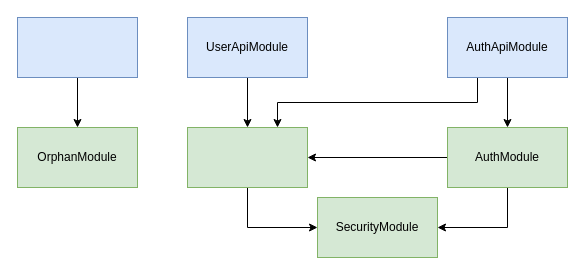
The diagram is 585 pixels wide and 275 high, and some of its shapes have lost their labels. The shapes that lost their labels are listed below. From the top down, each one's box as (x1, y1, x2, y2) in pixels, then its label:
(16, 16, 138, 78): OrphanApiModule
(186, 126, 308, 188): UserModule
